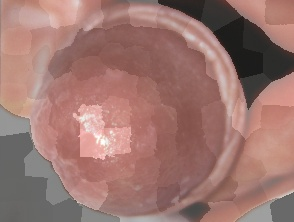SJS-TEN: (1, 0, 282, 222)
